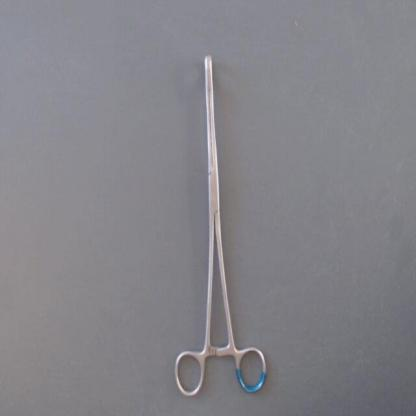Sponge Forceps: (169, 46, 271, 404)
